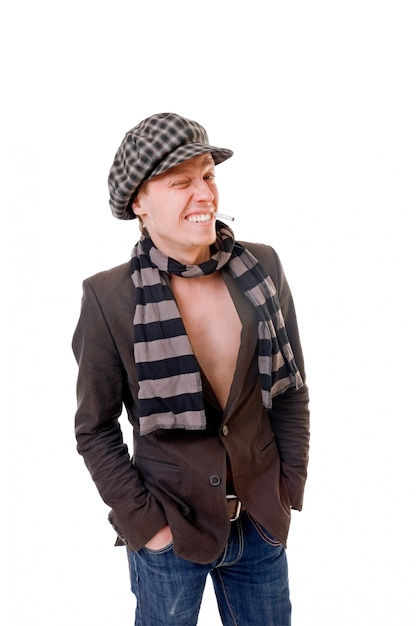cigarette: (209, 211, 241, 223)
